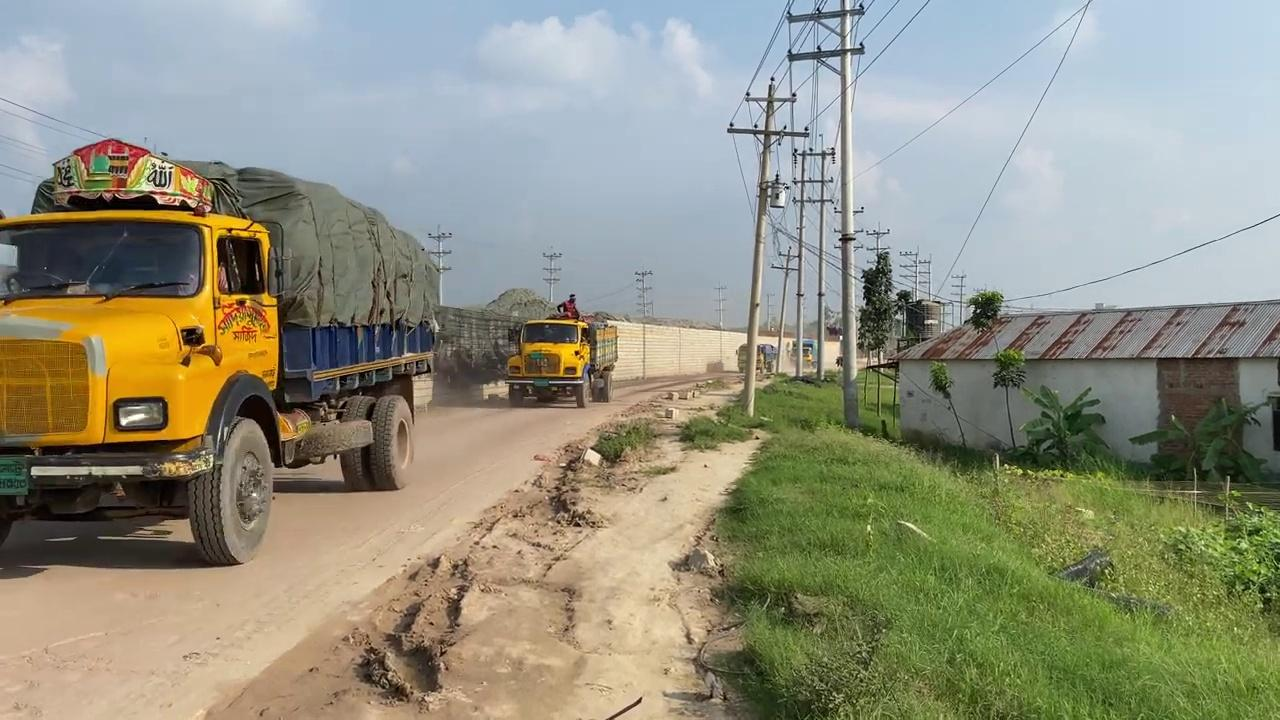Muddy road: (0, 367, 755, 718)
Pole: (726, 76, 808, 417), (837, 0, 863, 428)
Traffic-sign: (990, 346, 1026, 451), (964, 288, 1003, 333)
Tree: (0, 136, 442, 566), (504, 312, 619, 408)
